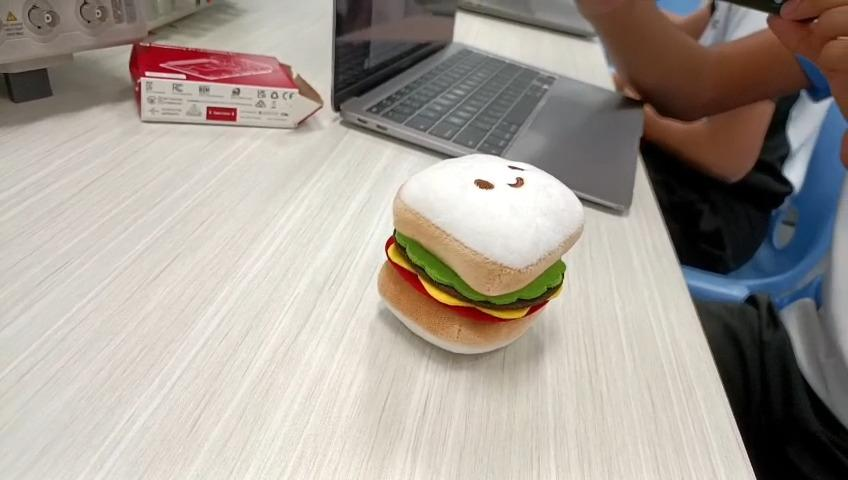objects: (376, 153, 591, 361)
